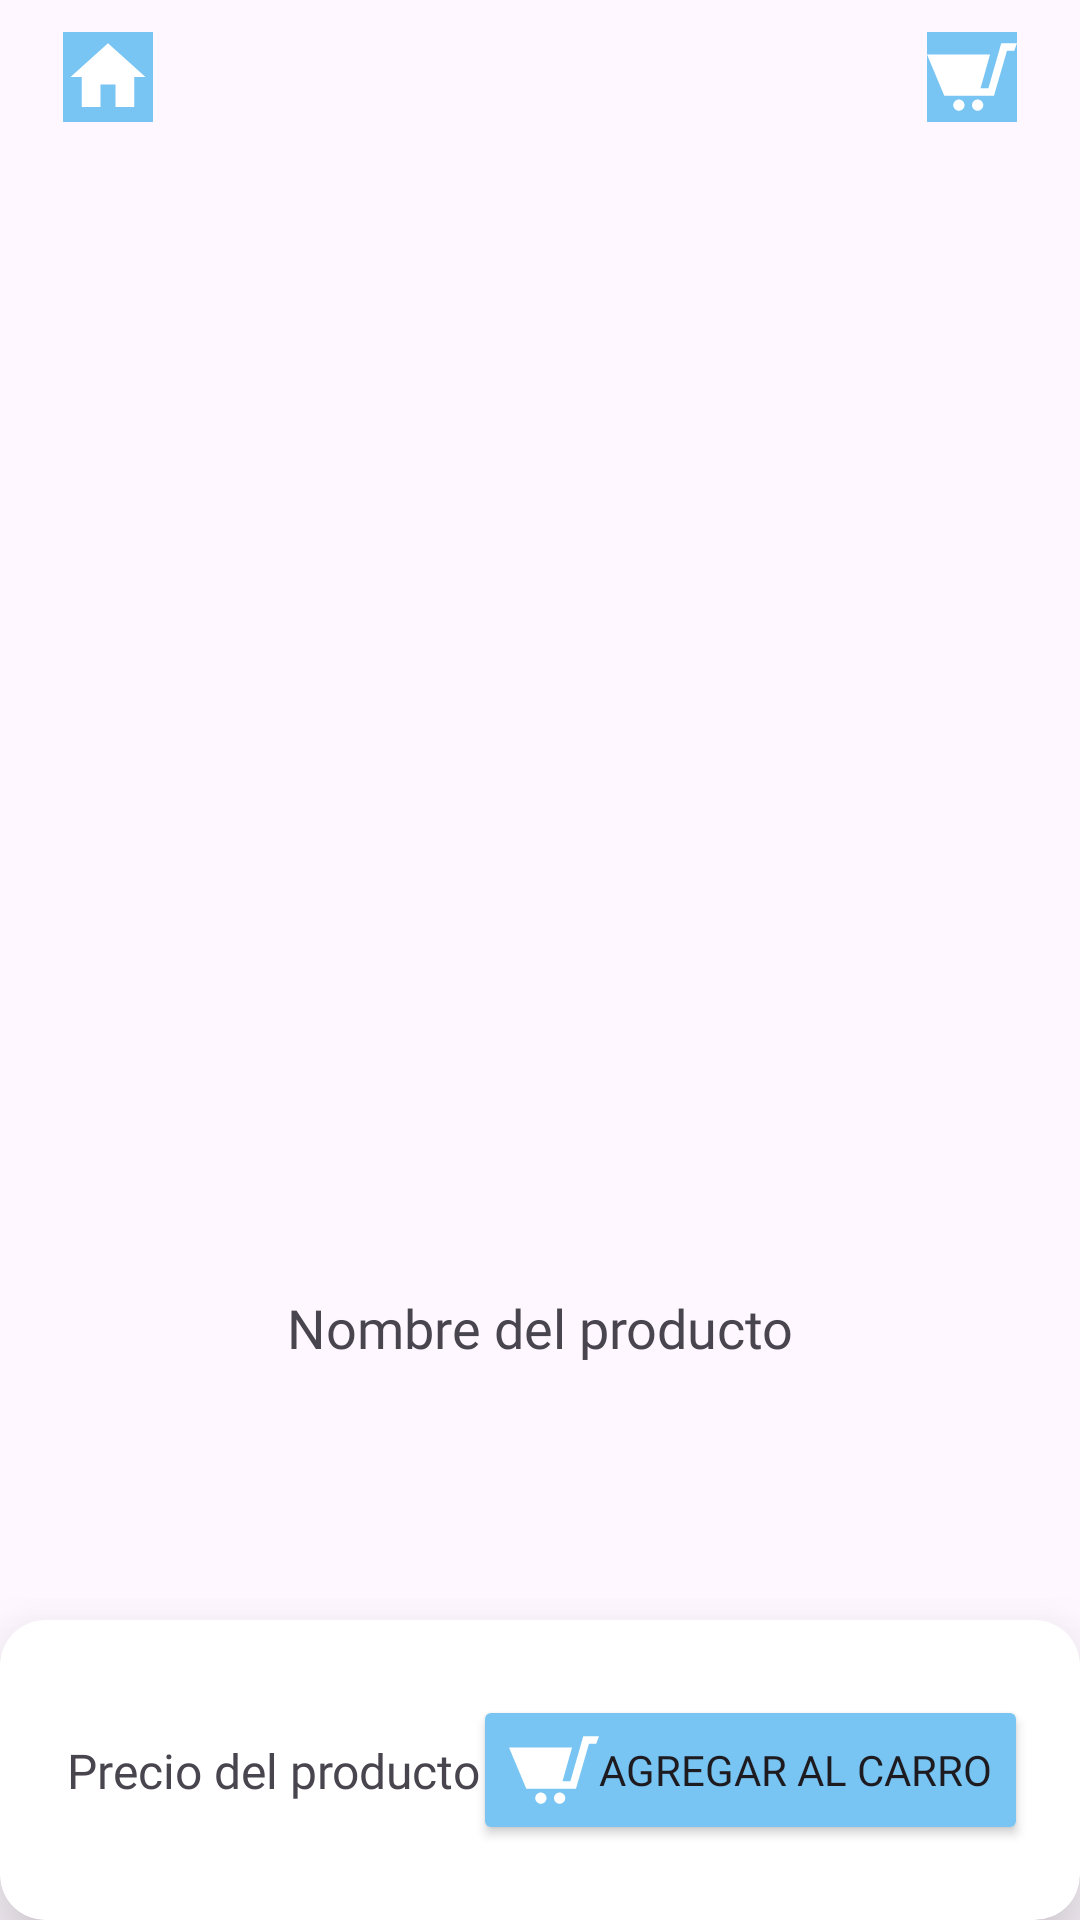

Icons on this 1080w x 1920h Android screen, each with its box as (x1, y1, x2, y2):
cart: (927, 32, 1017, 122)
home: (63, 32, 153, 122)
